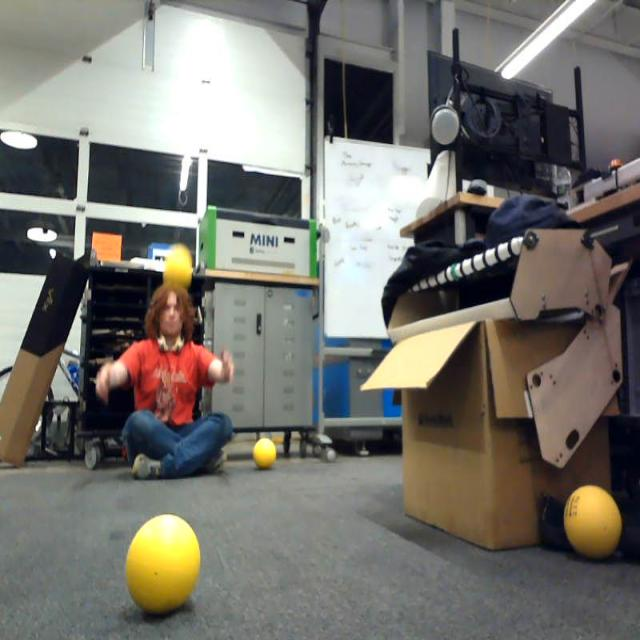Fuel: (126, 514, 200, 618), (564, 486, 622, 560), (164, 249, 192, 285), (255, 438, 276, 470)
